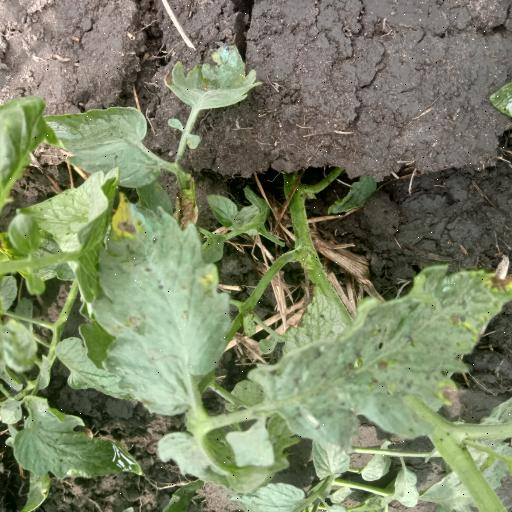Tomato_Brown_Spots: (258, 261, 512, 444), (78, 191, 234, 420)
